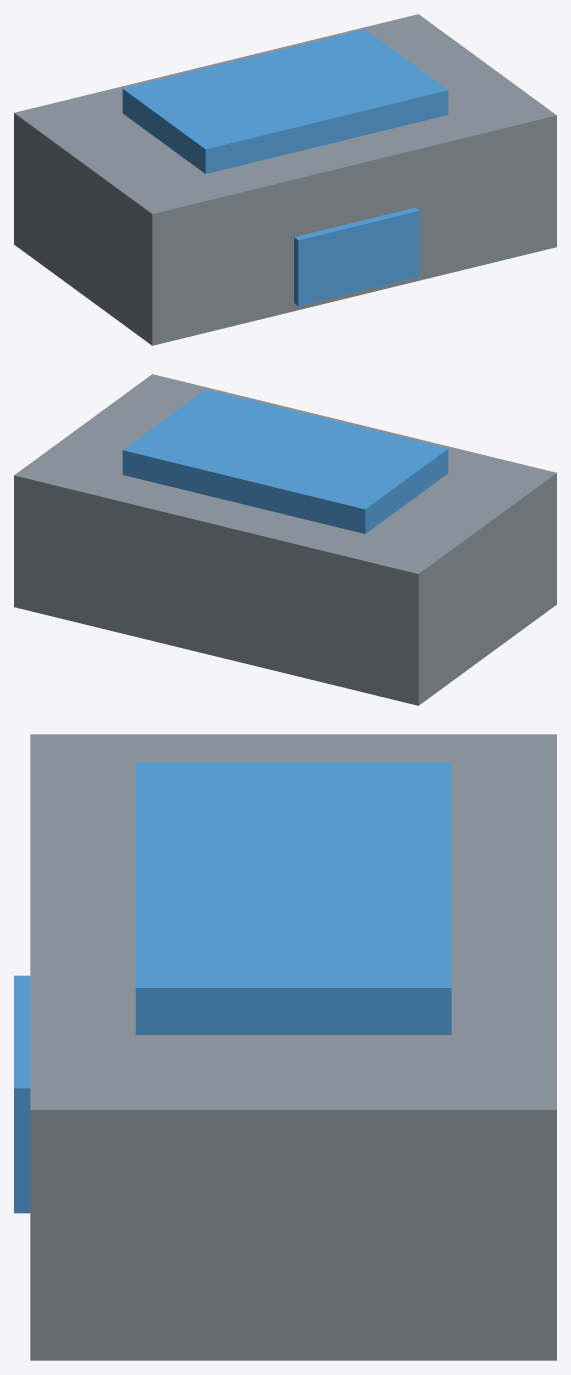
Rendered from SM_Alliance_AL_BulwarkMBT_Blockout.fbx.
3 views of the same model, one above another, from view 1: azimuth 30°, elevation 25°; view 2: azimuth 150°, elevation 25°; view 3: azimuth 270°, elevation 25° (orthographic). The views are drawn at different scales.
Visible parts, largest first — view 1: MainBuilding, RoofStructure, EntranceGate; view 2: MainBuilding, RoofStructure; view 3: MainBuilding, RoofStructure, EntranceGate.
Boxes of the visible parts, bbox=[...] form: MainBuilding: bbox=[14, 14, 556, 345]; RoofStructure: bbox=[122, 29, 448, 173]; EntranceGate: bbox=[294, 207, 419, 305]; MainBuilding: bbox=[14, 374, 556, 705]; RoofStructure: bbox=[122, 389, 448, 533]; MainBuilding: bbox=[30, 734, 556, 1360]; RoofStructure: bbox=[135, 762, 451, 1034]; EntranceGate: bbox=[14, 975, 30, 1213].
Size of the model in its own units: 540 by 200 by 330.
